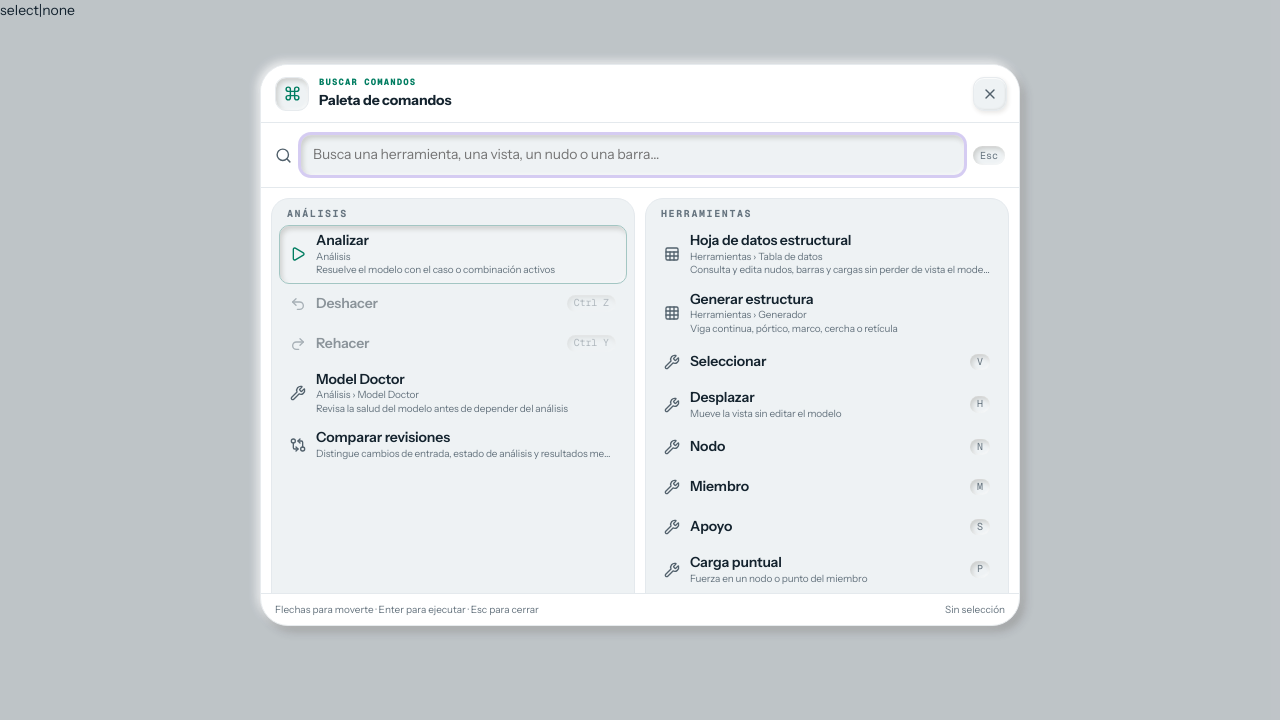
it: CommandPalette › runs an existing tool command instead of a palette-only action
Click the option with aria-label "Nodo · N": (708,446) left=653, top=427, right=1001, bottom=467
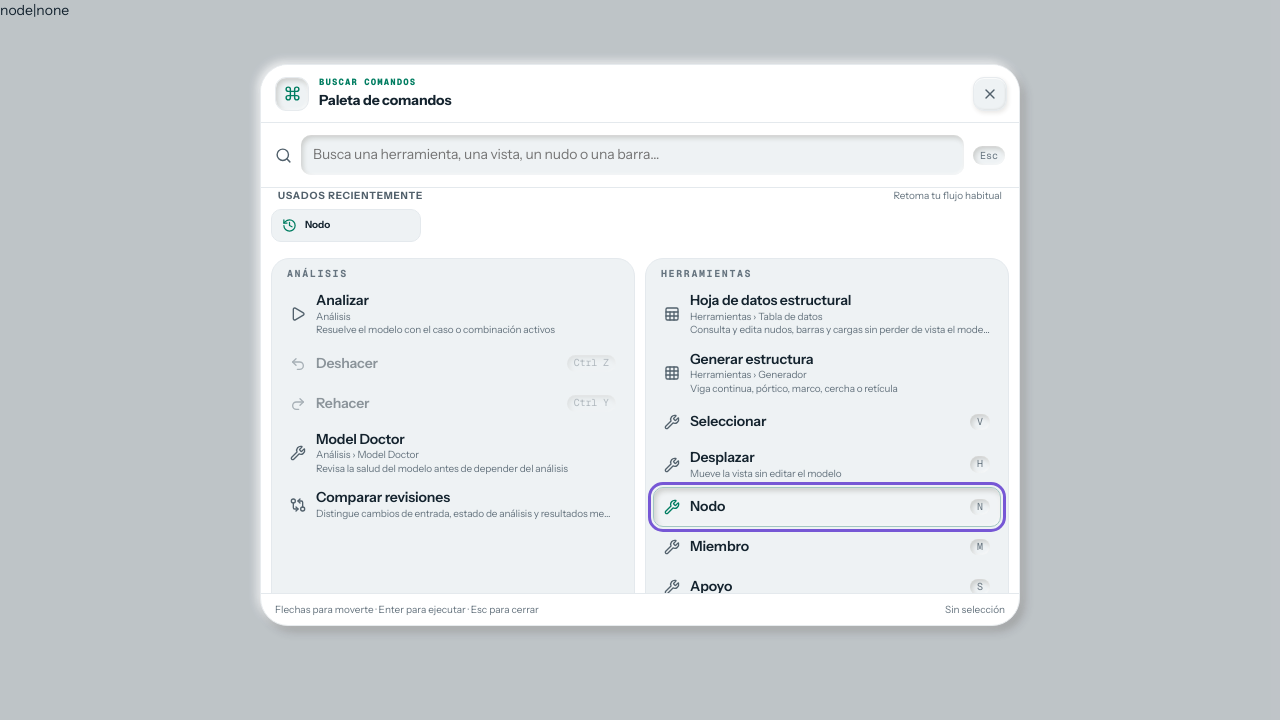
Check: the text with test id "probe" shows "node|", box left=0, top=1, right=69, bottom=19
